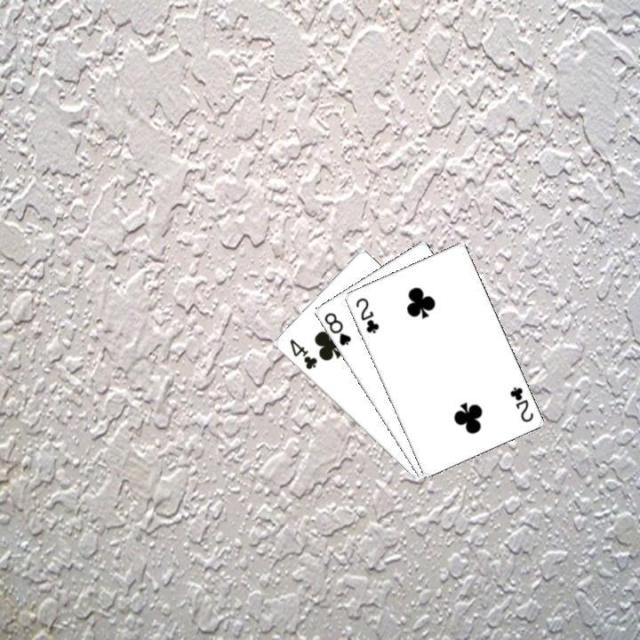2C: (351, 293, 381, 335), (506, 382, 535, 424)
4C: (285, 335, 319, 372)
8S: (320, 308, 353, 348)
